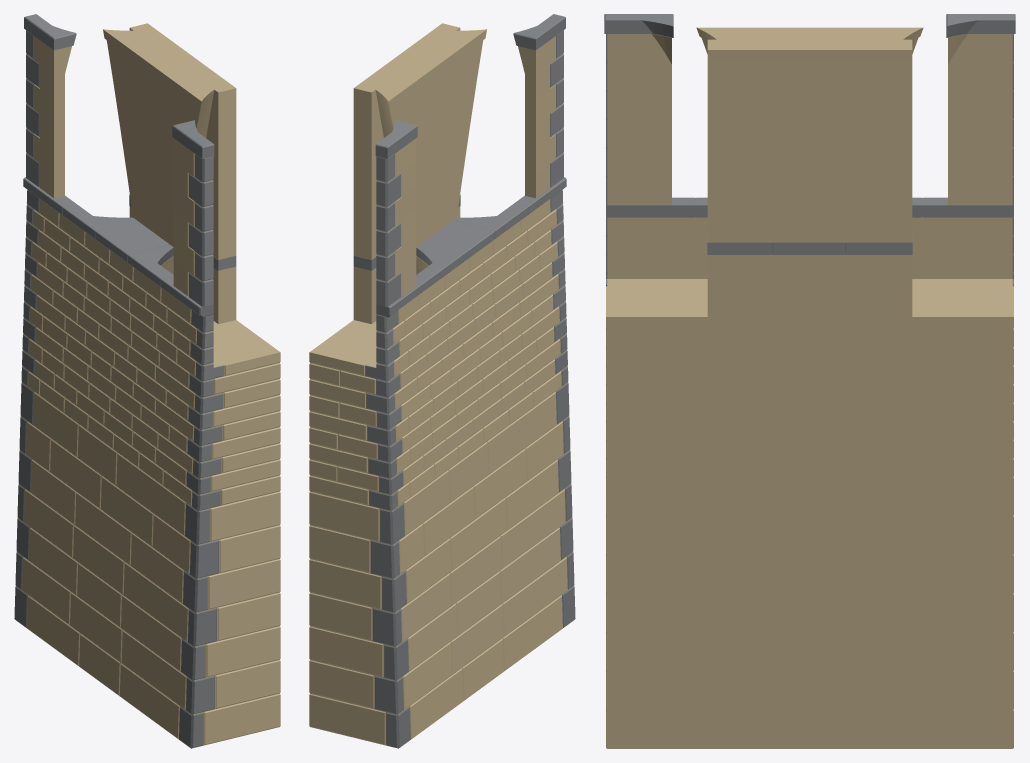
3 views of the same model, side by side, from view 1: azimuth 30°, elevation 25°; view 2: azimuth 150°, elevation 25°; view 3: azimuth 270°, elevation 25° (orthographic). The views are drawn at different scales.
Visible parts, largest first — view 1: Mesh_AbutmentLimestone, Mesh_AbutmentGranite; view 2: Mesh_AbutmentLimestone, Mesh_AbutmentGranite; view 3: Mesh_AbutmentLimestone, Mesh_AbutmentGranite.
Part boxes in pixels (x1,y1,x2,y2): Mesh_AbutmentLimestone: [16, 23, 280, 748]; Mesh_AbutmentGranite: [14, 14, 236, 748]; Mesh_AbutmentLimestone: [309, 23, 573, 748]; Mesh_AbutmentGranite: [353, 14, 575, 748]; Mesh_AbutmentLimestone: [606, 27, 1013, 748]; Mesh_AbutmentGranite: [604, 14, 1015, 285].
Size of the model in its own units: 3.5 by 22.65 by 12.08.
